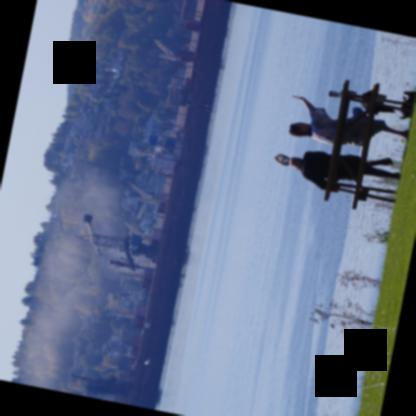handbag: (360, 90, 371, 109)
